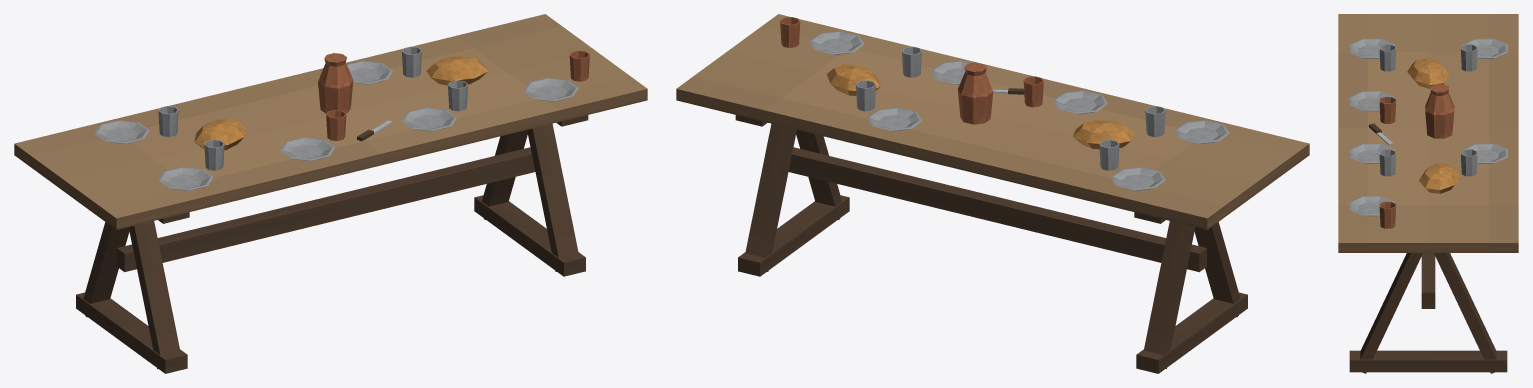
File: trestle-table-set.glb
3 views of the same model, side by side, from view 1: azimuth 30°, elevation 25°; view 2: azimuth 150°, elevation 25°; view 3: azimuth 270°, elevation 25° (orthographic). The views are drawn at different scales.
Visible parts, largest first — view 1: table, setting; view 2: table, setting; view 3: table, setting.
Boxes of the visible parts, x1,y1,x2,y2 form: table: (14,14,647,373); setting: (94,46,589,190); table: (676,14,1309,373); setting: (780,17,1229,190); table: (1338,14,1518,373); setting: (1349,38,1507,228).
Size of the model in its own units: 2.4 by 0.9798 by 0.8.
Materials: 1 (1 with a texture image).
